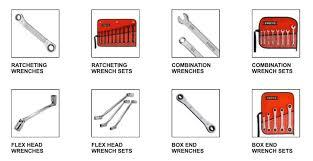wrench: (174, 91, 215, 134), (13, 12, 56, 52), (92, 90, 134, 120), (98, 96, 130, 127), (108, 97, 136, 130)
